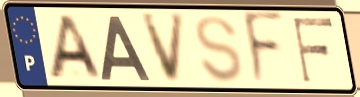A: (46, 14, 106, 82), (99, 14, 153, 83)
F: (241, 9, 287, 90), (291, 16, 336, 85)
S: (193, 13, 245, 86)
V: (138, 11, 188, 86)
